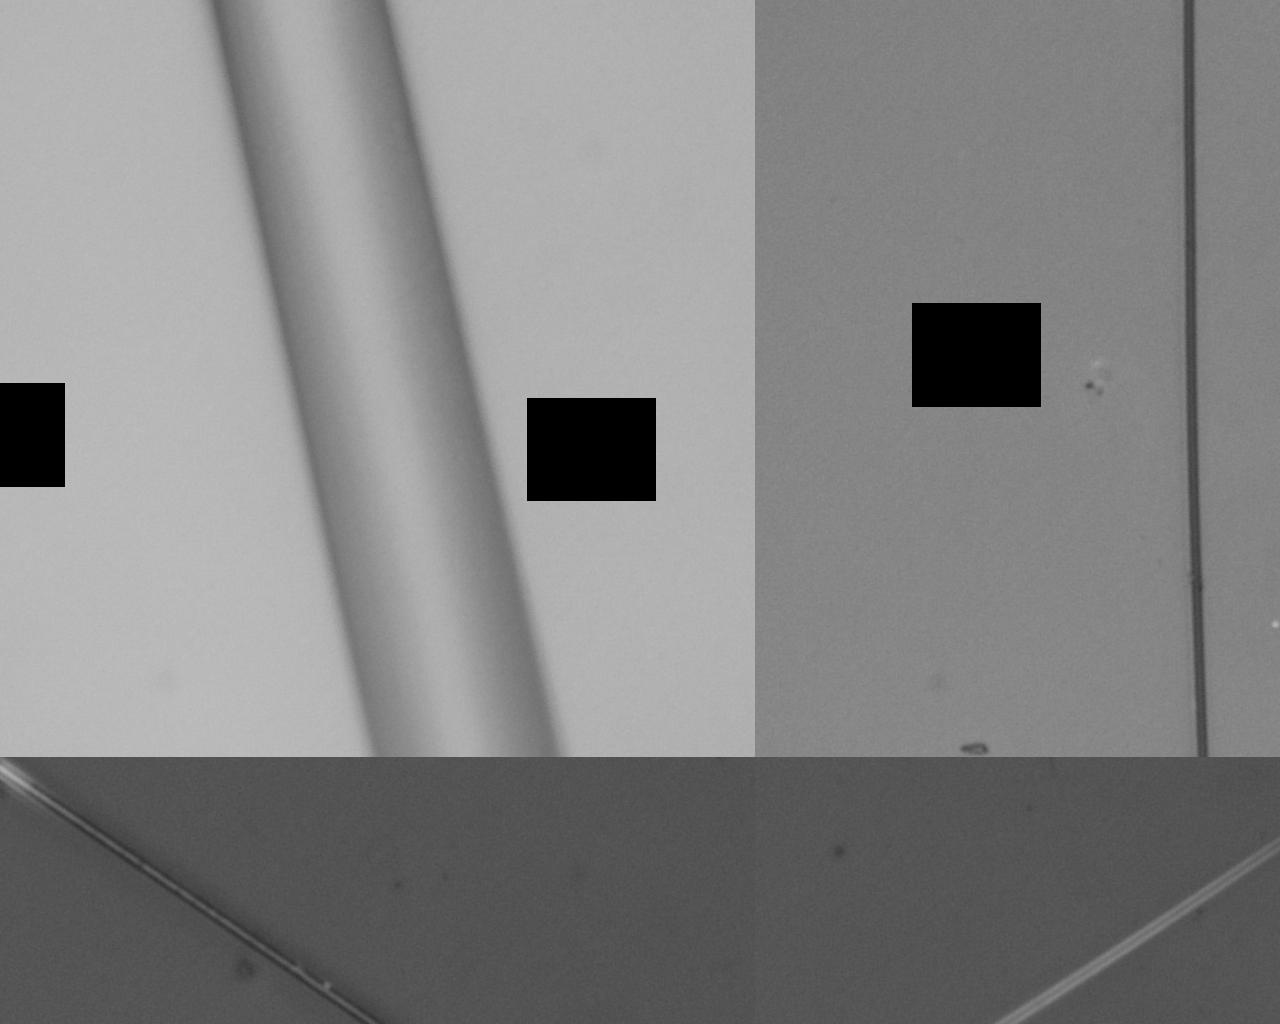fiber: (127, 653, 1151, 716)
